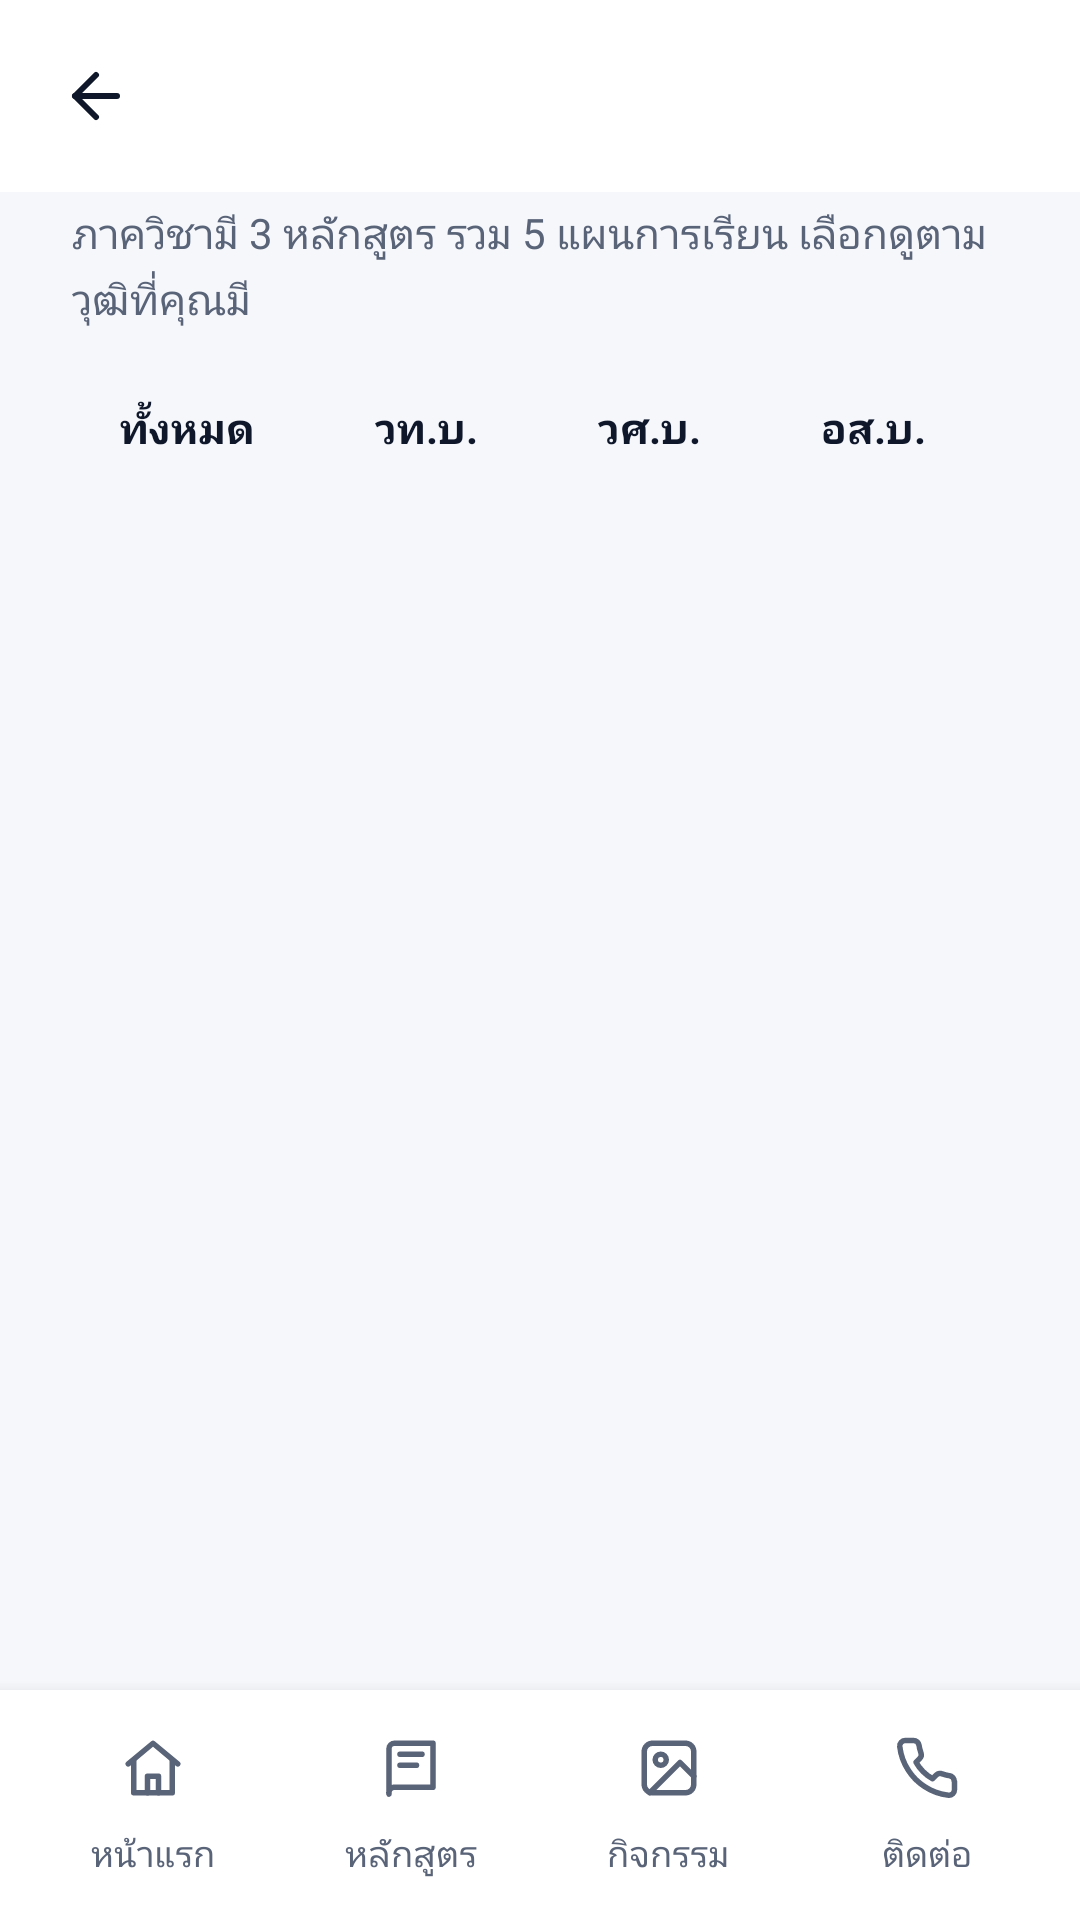

Named icons in this screenshot (1080×1920) and their bounding boxes, rect(x1, y1, x2, y2):
ui home: rect(125, 1740, 181, 1796)
ui phone: rect(897, 1737, 958, 1798)
ย้อนกลับ: rect(72, 72, 120, 120)
